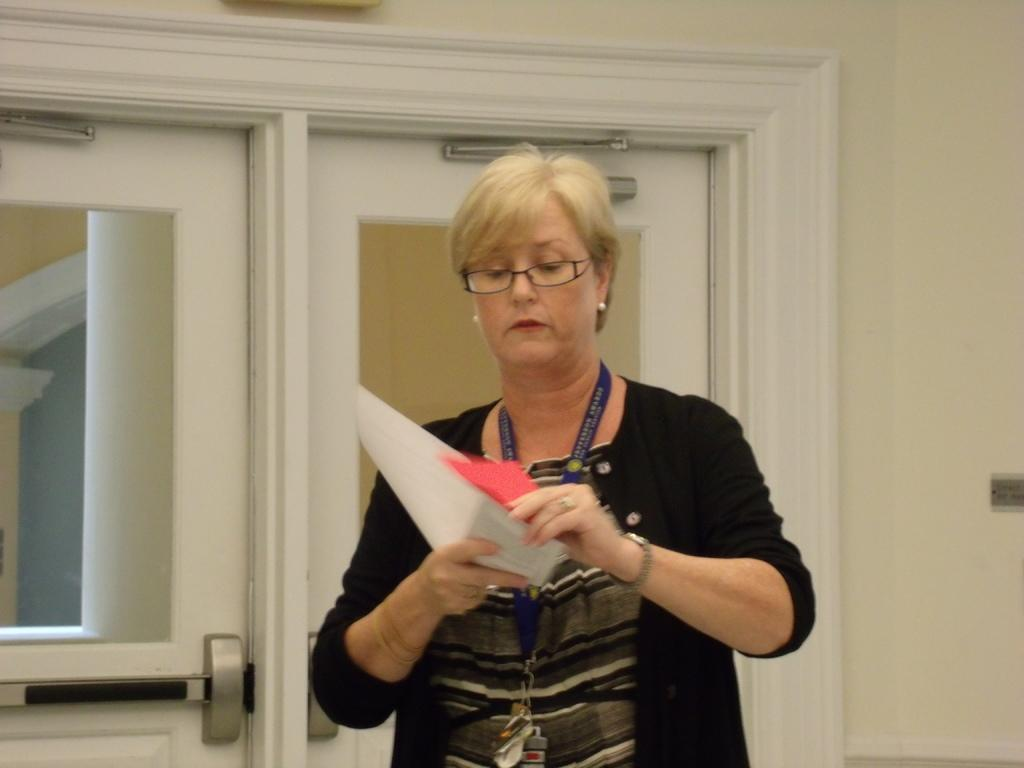handle: (18, 674, 220, 716)
